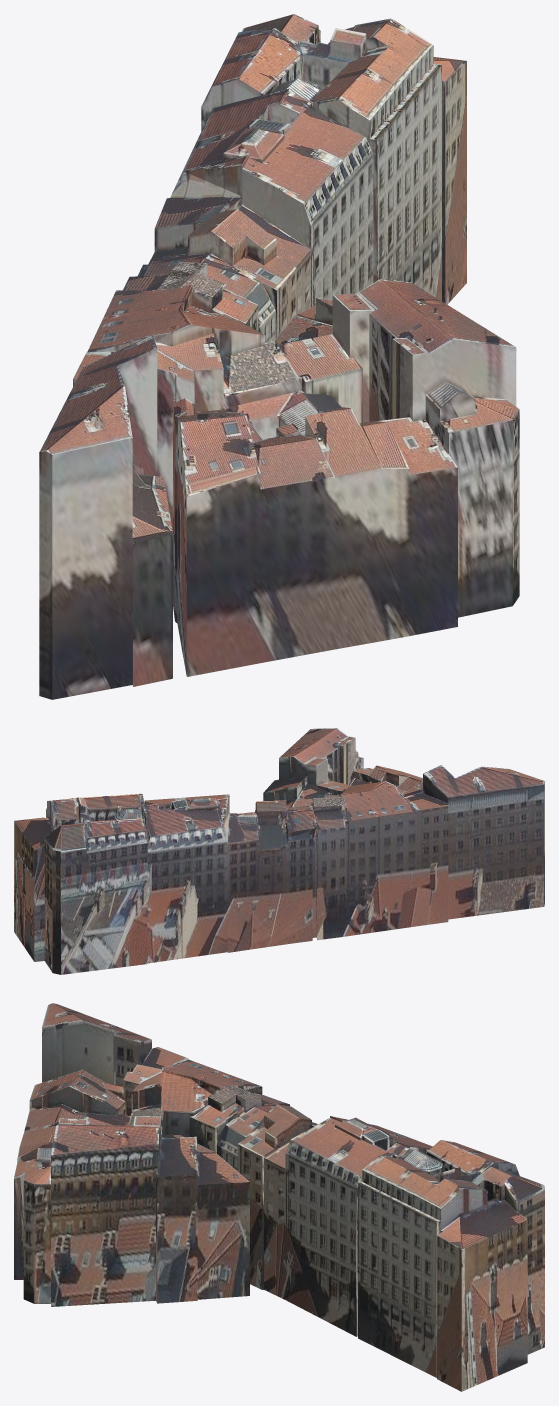
The model's file is LYON_1ER_00072.dae.
3 renders of one model, top to bottom at view 1: azimuth 30°, elevation 25°; view 2: azimuth 150°, elevation 25°; view 3: azimuth 270°, elevation 25°, orthographic. The views are drawn at different scales.
Size of the model in its own units: 88.73 by 85.81 by 32.81.
Materials: 2 (2 with a texture image).
